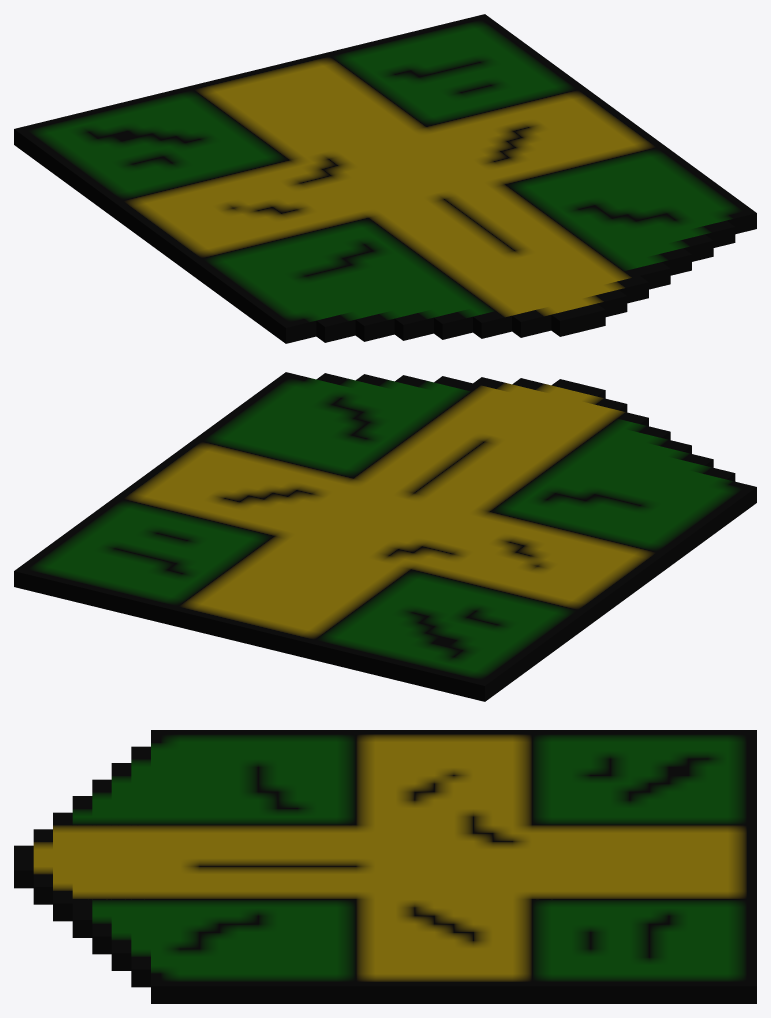
Rendered from Shield.fbx.
3 renders of one model, top to bottom at view 1: azimuth 30°, elevation 25°; view 2: azimuth 150°, elevation 25°; view 3: azimuth 270°, elevation 25°, orthographic. The views are drawn at different scales.
Parts seen in each view (by area): view 1: Matrix; view 2: Matrix; view 3: Matrix.
Boxes of the visible parts, <box> form: Matrix: <box>14,14,756,343</box>; Matrix: <box>14,372,756,701</box>; Matrix: <box>14,730,756,1003</box>.
Size of the model in its own units: 31 by 1 by 38.
1 material, 1 textured.
